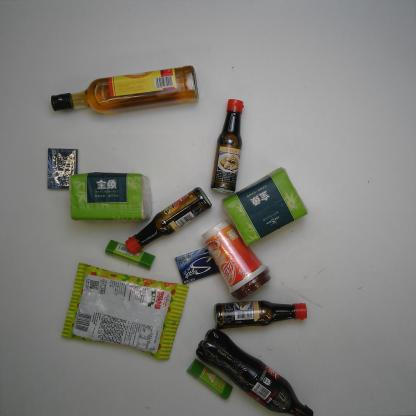Drink: (194, 322, 322, 414)
Gum: (42, 143, 81, 191), (174, 244, 218, 284)
Instant Drink: (201, 218, 274, 300)
Puffed Food: (59, 254, 197, 371)
Seasoner: (50, 64, 200, 118), (122, 185, 213, 257), (204, 92, 250, 196), (212, 294, 312, 336)
Stationery: (102, 234, 164, 275), (184, 357, 235, 401)
Tissue: (219, 165, 310, 249), (66, 164, 155, 226)
